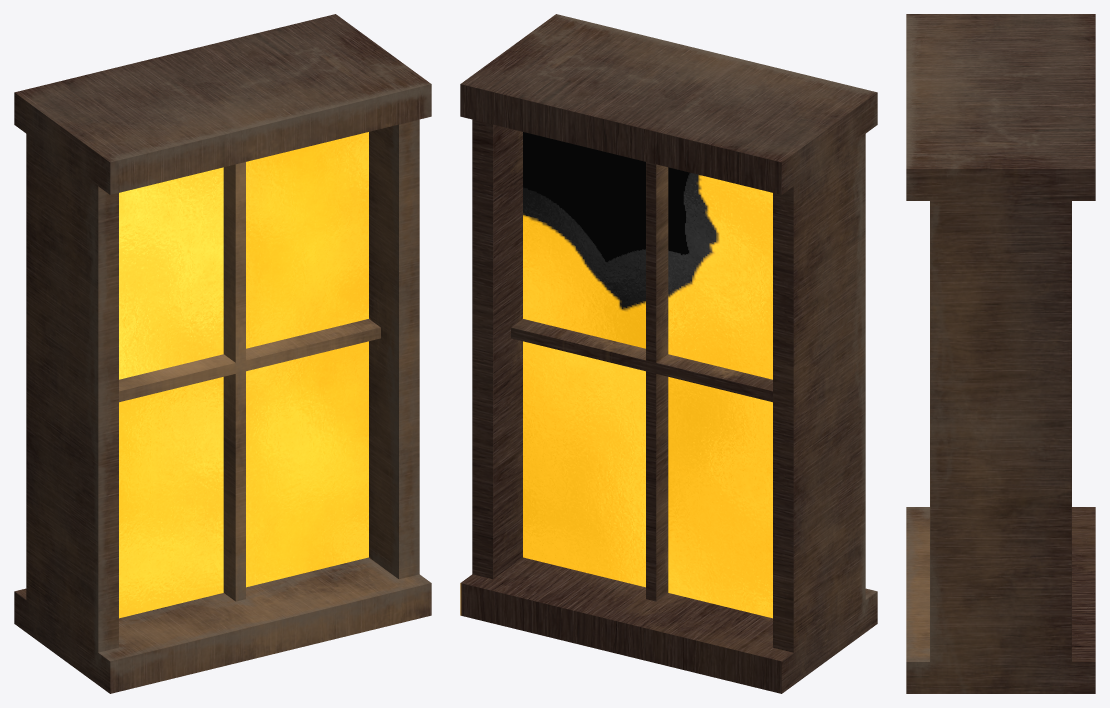
Rendered from saloon_window.glb.
3 renders of one model, left to right at view 1: azimuth 30°, elevation 25°; view 2: azimuth 150°, elevation 25°; view 3: azimuth 270°, elevation 25°, orthographic.
Parts seen in each view (by area): view 1: SM_Window_LowPoly; view 2: SM_Window_LowPoly; view 3: SM_Window_LowPoly.
Boxes of the visible parts, left/top/right/bottom form: SM_Window_LowPoly: left=14, top=14, right=431, bottom=693; SM_Window_LowPoly: left=460, top=14, right=877, bottom=693; SM_Window_LowPoly: left=906, top=14, right=1095, bottom=693.
Size of the model in its own units: 155 by 245 by 80.
1 material, 1 textured.
